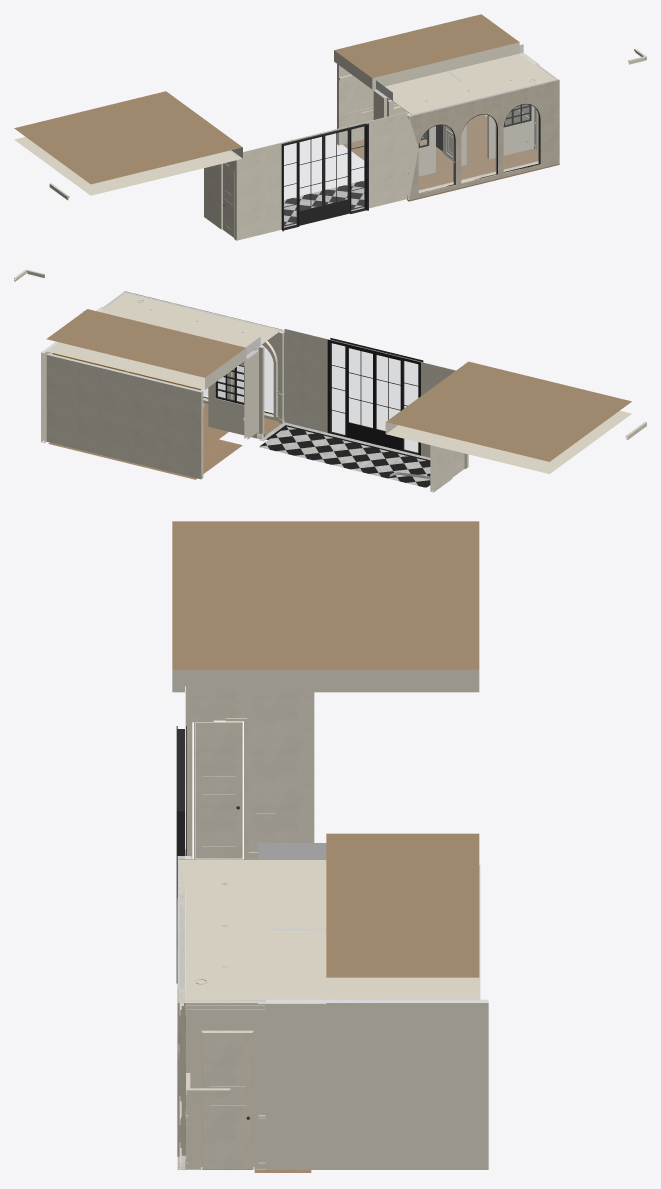
Rendered from office-hall-ee94def8a9aa.glb.
3 renders of one model, top to bottom at view 1: azimuth 30°, elevation 25°; view 2: azimuth 150°, elevation 25°; view 3: azimuth 270°, elevation 25°, orthographic. The views are drawn at different scales.
Visible parts, largest first — view 1: office-hall-look-2575515a05775d9e, office-hall-look-698abdfdc6fb970d, office-hall-look-d5a4a1b5d3594c04, office-hall-c9e78b9ec1bb39cd, office-hall-dbd60ee5c3733ed6, office-hall-look-dbd60ee5c3733ed6, office-hall-5cbcc744e6f960f3, office-hall-38561c12898e4d43, office-hall-c02a36d0521470a9, office-hall-look-19647d6da46c2b80, office-hall-c374268555806af8, office-hall-7dc307bfa7ee071d (+8 smaller); view 2: office-hall-look-2575515a05775d9e, office-hall-look-19647d6da46c2b80, office-hall-look-698abdfdc6fb970d, office-hall-look-d5a4a1b5d3594c04, office-hall-look-c4ac463b6a960119, office-hall-dbd60ee5c3733ed6, office-hall-a822d30aa9e2c55a, office-hall-look-6a051330000fbca1, office-hall-look-3b0077416469e01b, office-hall-look-85f0fd939e0fcc78, office-hall-38561c12898e4d43, office-hall-c9e78b9ec1bb39cd (+7 smaller); view 3: office-hall-look-2575515a05775d9e, office-hall-look-6a1144f4e43410bb, office-hall-look-85f0fd939e0fcc78, office-hall-dbd60ee5c3733ed6, office-hall-look-dbd60ee5c3733ed6, office-hall-cf6d22c5317ced0b, office-hall-look-3322bc58bedf5620, office-hall-68d06b361ac47823, office-hall-c9e78b9ec1bb39cd, office-hall-look-698abdfdc6fb970d.
Boxes of the visible parts, x1,y1,x2,y2 form: office-hall-look-2575515a05775d9e: (14,14,519,195); office-hall-look-698abdfdc6fb970d: (281,123,368,231); office-hall-look-d5a4a1b5d3594c04: (236,112,407,240); office-hall-c9e78b9ec1bb39cd: (407,82,544,200); office-hall-dbd60ee5c3733ed6: (389,63,558,115); office-hall-look-dbd60ee5c3733ed6: (376,44,540,100); office-hall-5cbcc744e6f960f3: (504,104,539,170); office-hall-38561c12898e4d43: (419,125,454,191); office-hall-c02a36d0521470a9: (461,115,496,180); office-hall-look-19647d6da46c2b80: (337,64,397,145); office-hall-c374268555806af8: (407,148,559,201); office-hall-7dc307bfa7ee071d: (462,64,534,165); office-hall-look-2575515a05775d9e: (46,309,631,473); office-hall-look-19647d6da46c2b80: (46,353,203,479); office-hall-look-698abdfdc6fb970d: (327,338,423,455); office-hall-look-d5a4a1b5d3594c04: (284,328,468,466); office-hall-look-c4ac463b6a960119: (259,426,430,487); office-hall-dbd60ee5c3733ed6: (101,291,281,347); office-hall-a822d30aa9e2c55a: (182,328,258,438); office-hall-look-6a051330000fbca1: (244,348,258,439); office-hall-look-3b0077416469e01b: (48,435,242,479); office-hall-look-85f0fd939e0fcc78: (430,445,468,492); office-hall-38561c12898e4d43: (237,345,273,411); office-hall-c9e78b9ec1bb39cd: (138,295,284,421); office-hall-look-2575515a05775d9e: (172,521,479,1000); office-hall-look-6a1144f4e43410bb: (265,999,488,1169); office-hall-look-85f0fd939e0fcc78: (186,692,314,859); office-hall-dbd60ee5c3733ed6: (178,859,272,1002); office-hall-look-dbd60ee5c3733ed6: (258,843,326,1003); office-hall-cf6d22c5317ced0b: (202,1032,252,1168); office-hall-look-3322bc58bedf5620: (195,721,242,858); office-hall-68d06b361ac47823: (186,999,265,1169); office-hall-c9e78b9ec1bb39cd: (177,856,185,1155); office-hall-look-698abdfdc6fb970d: (176,726,186,983).
Size of the model in its own units: 21.69 by 3.44 by 5.14.
Materials: 27 (7 with a texture image).
